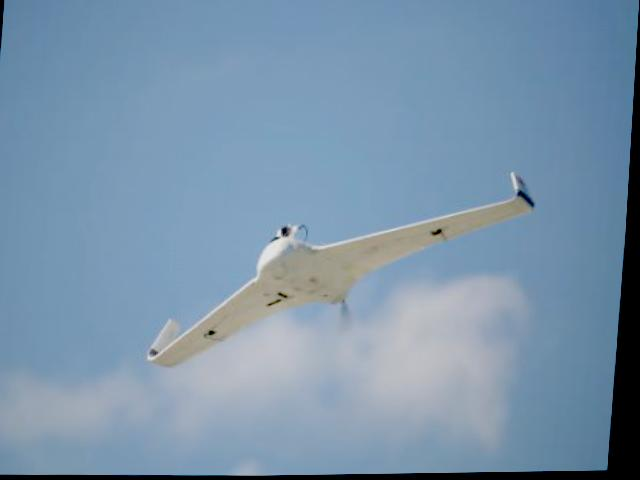uav: (147, 163, 541, 365)
